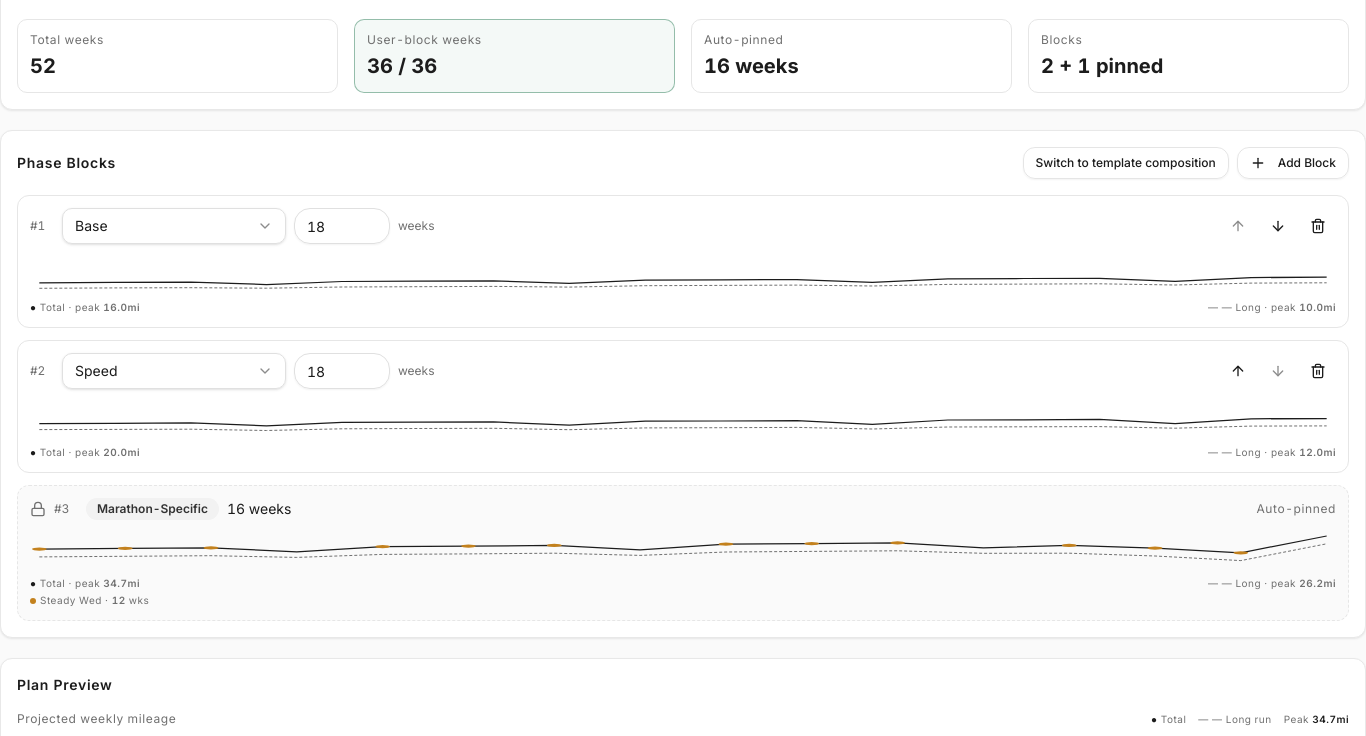
Test: Planner block editor › reorders blocks with the Move up button
(page scrolled)
Click the 2nd button named "Move up" at (1238, 371), box [1220, 353, 1256, 389]
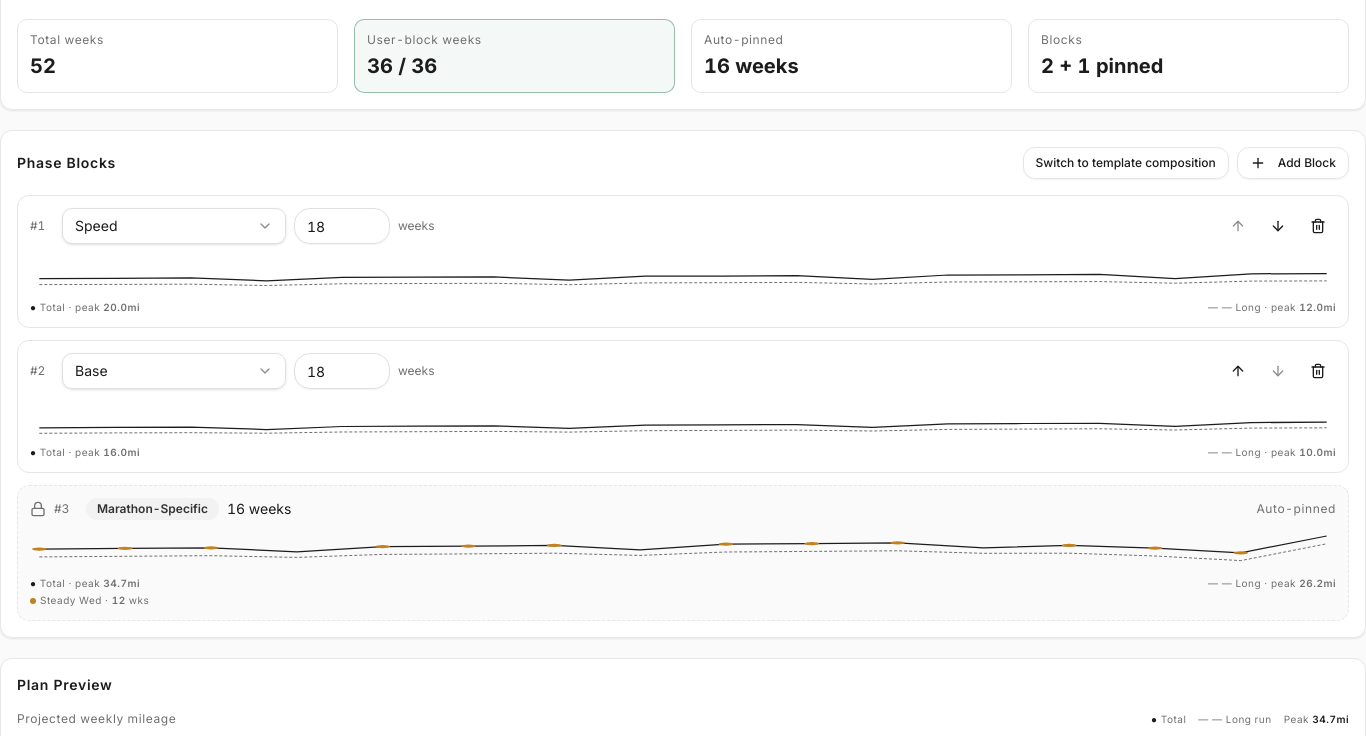
Result: the dropdown with test id "planner-block-0-focus" reads "Speed" at [62, 208, 286, 244]
Result: the dropdown with test id "planner-block-1-focus" reads "Base" at [62, 353, 286, 389]
